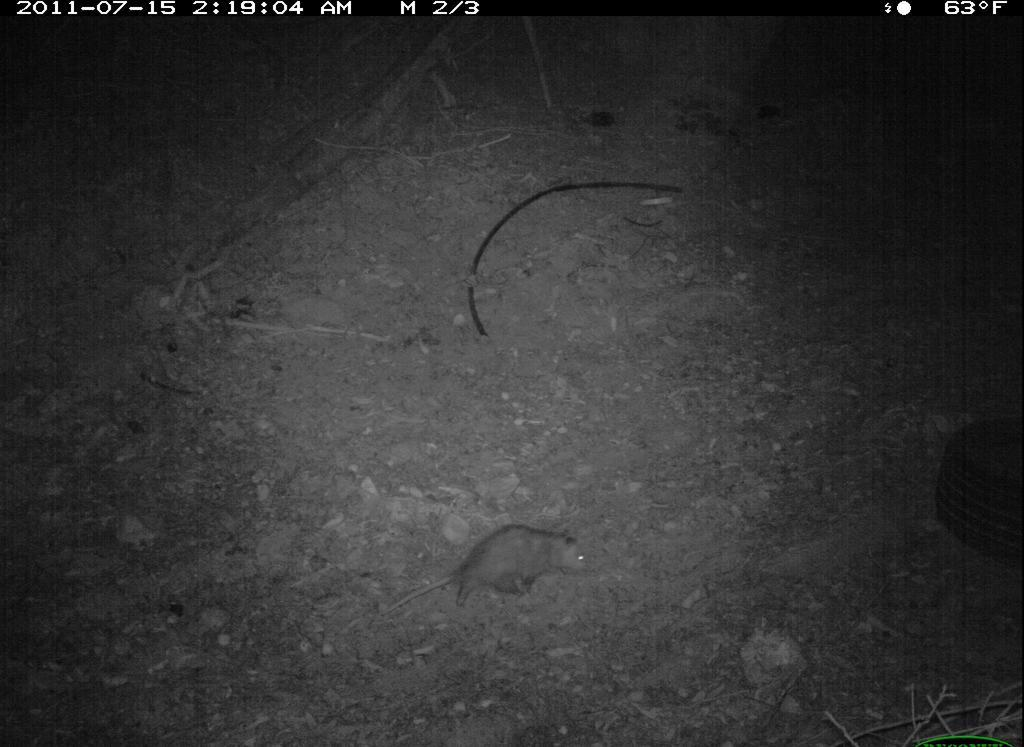opossum: (379, 515, 606, 629)
